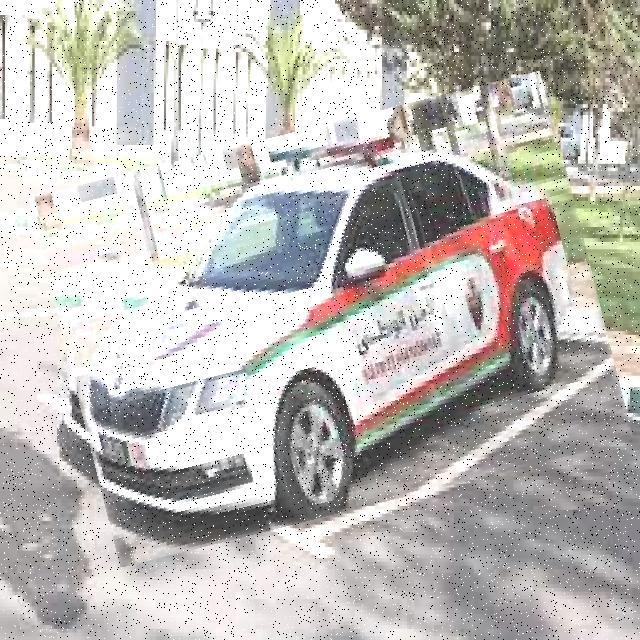police: (47, 99, 614, 538)
